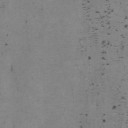oxide scale of temperature system: (102, 40, 112, 47), (107, 6, 114, 14), (96, 16, 106, 20), (78, 37, 86, 42), (120, 41, 124, 50), (10, 65, 14, 72), (0, 4, 5, 8), (101, 50, 106, 54), (112, 105, 116, 110)
